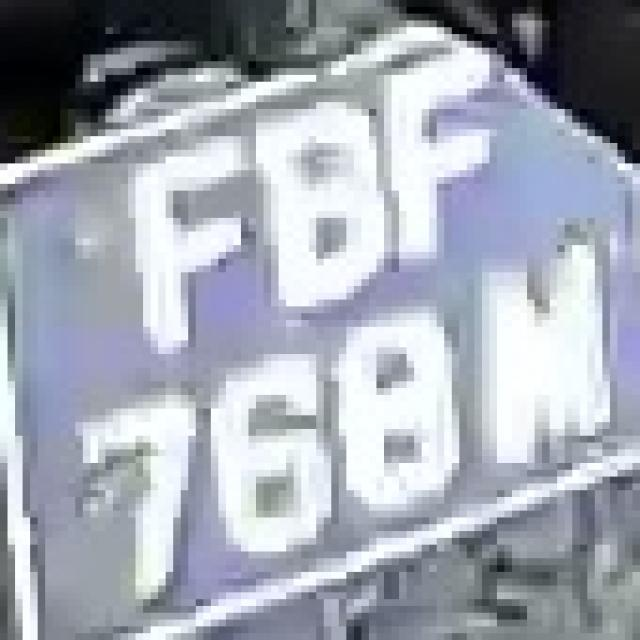6: (196, 340, 346, 579)
7: (60, 368, 204, 612)
8: (316, 300, 482, 531)
B: (249, 75, 399, 299)
F: (120, 102, 256, 381), (362, 27, 504, 279)
M: (474, 252, 625, 511)
